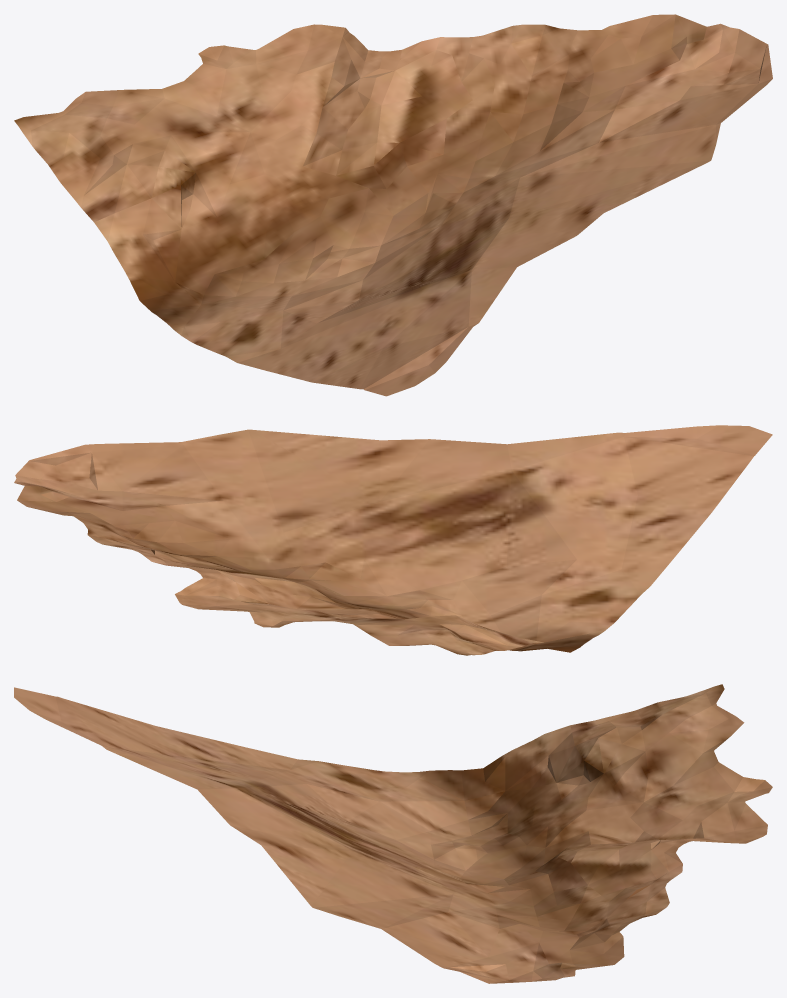
3 views of the same model, one above another, from view 1: azimuth 30°, elevation 25°; view 2: azimuth 150°, elevation 25°; view 3: azimuth 270°, elevation 25° (orthographic). The views are drawn at different scales.
Size of the model in its own units: 0.323 by 0.0483 by 0.3468.
Materials: 1 (1 with a texture image).
